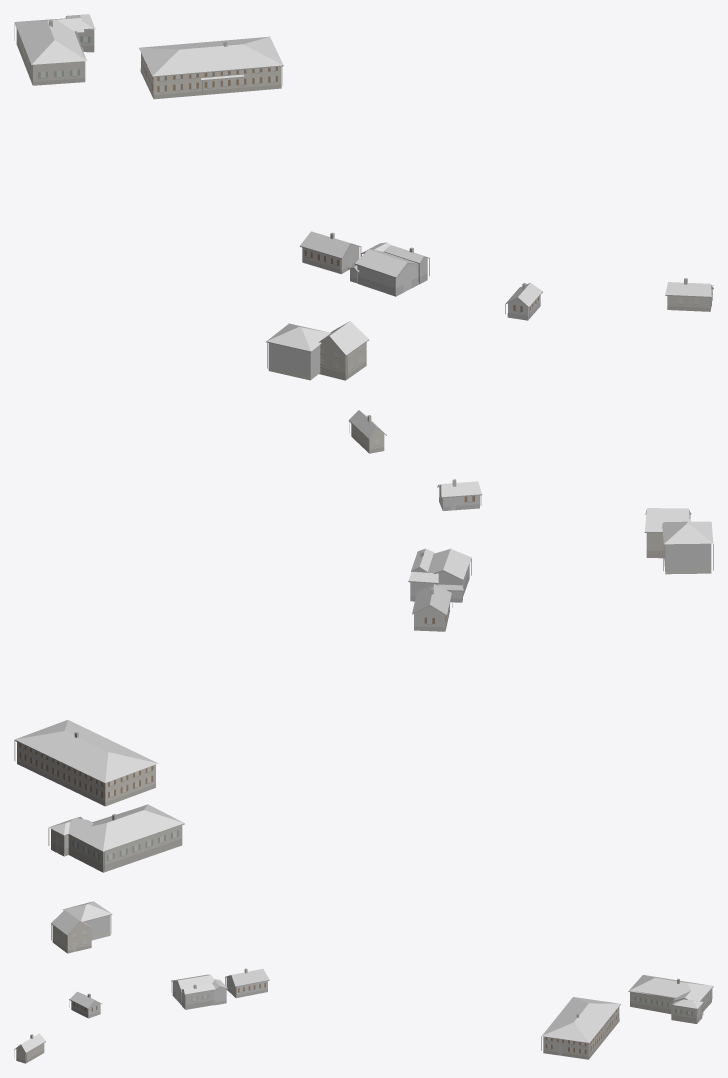
The picture shows the model from 3 angles, top to bottom: view 1: azimuth 30°, elevation 25°; view 2: azimuth 150°, elevation 25°; view 3: azimuth 270°, elevation 25°; orthographic projection. The views are drawn at different scales.
Visible parts, largest first — view 1: bld; view 2: bld; view 3: bld.
Boxes of the visible parts, left/top/right/bottom form: bld: left=14, top=14, right=713, bottom=380; bld: left=14, top=410, right=713, bottom=872; bld: left=14, top=901, right=713, bottom=1063.
Size of the model in its own units: 91.99 by 14.03 by 189.
